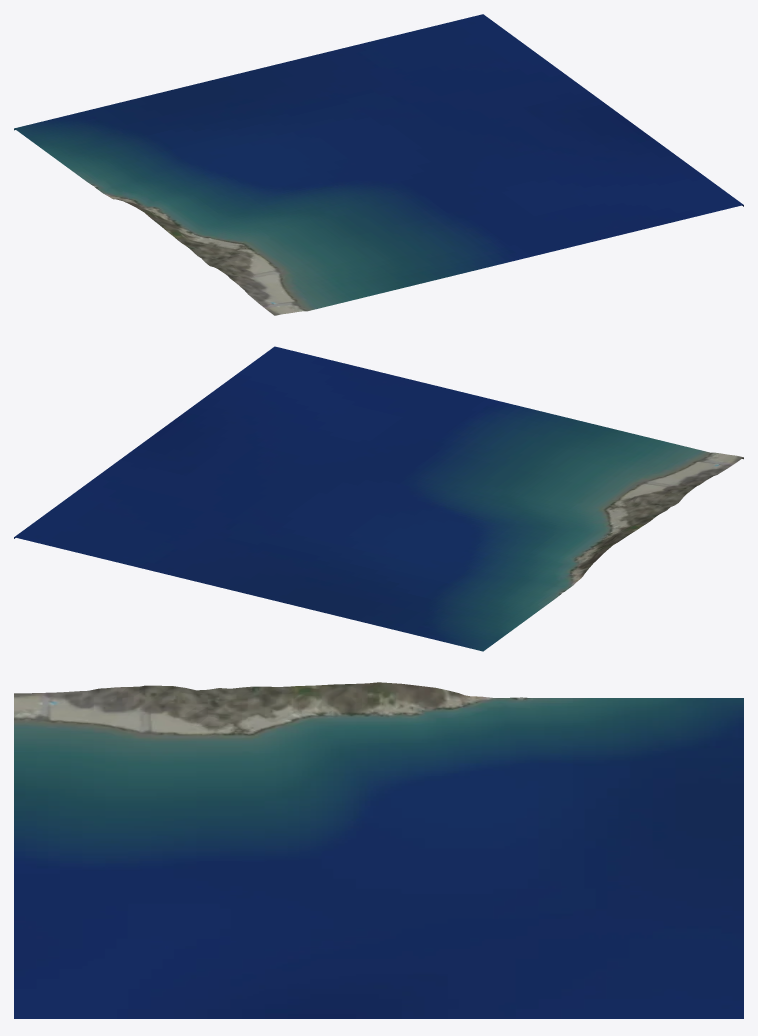
3 views of the same model, one above another, from view 1: azimuth 30°, elevation 25°; view 2: azimuth 150°, elevation 25°; view 3: azimuth 270°, elevation 25° (orthographic). The views are drawn at different scales.
Bounding box in the file's own units: 250 × 6.85 × 241.
1 material, 1 textured.
